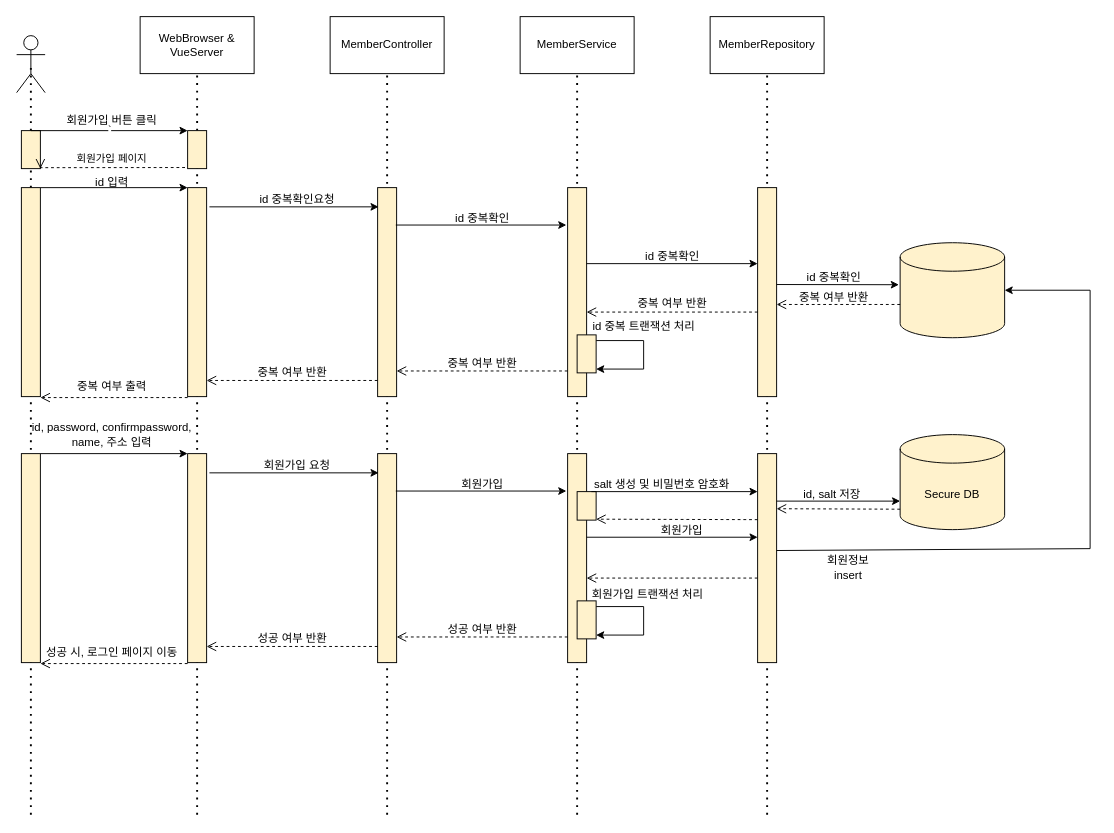
The diagram is 1114 pixels wide and 833 high, and some of its shapes have lost their labels. The box of each missing label's shape, as (x1, y1, x2, y2) in pixels:
Actor: (16, 35, 45, 93)
Main DB: (899, 242, 1005, 338)
